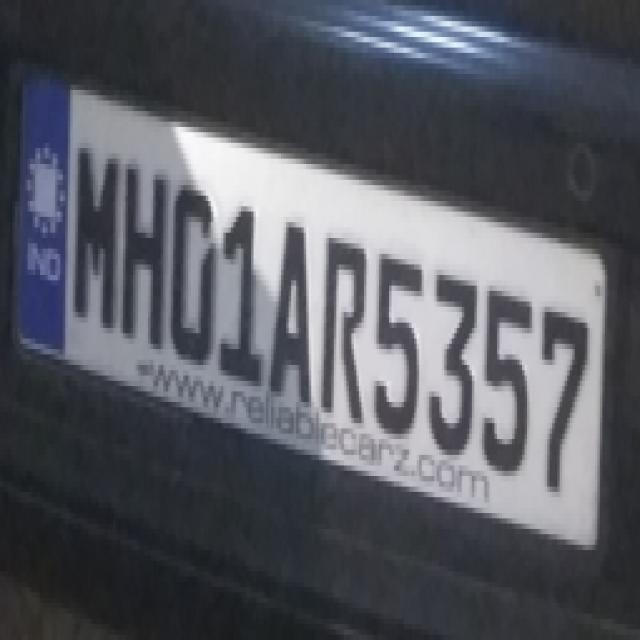0: (170, 177, 220, 365)
1: (218, 196, 266, 402)
3: (429, 254, 477, 468)
5: (484, 274, 536, 488), (375, 232, 423, 440)
7: (540, 296, 595, 504)
A: (268, 209, 318, 414)
H: (122, 152, 166, 349)
M: (69, 134, 118, 336)
R: (316, 214, 366, 434)
